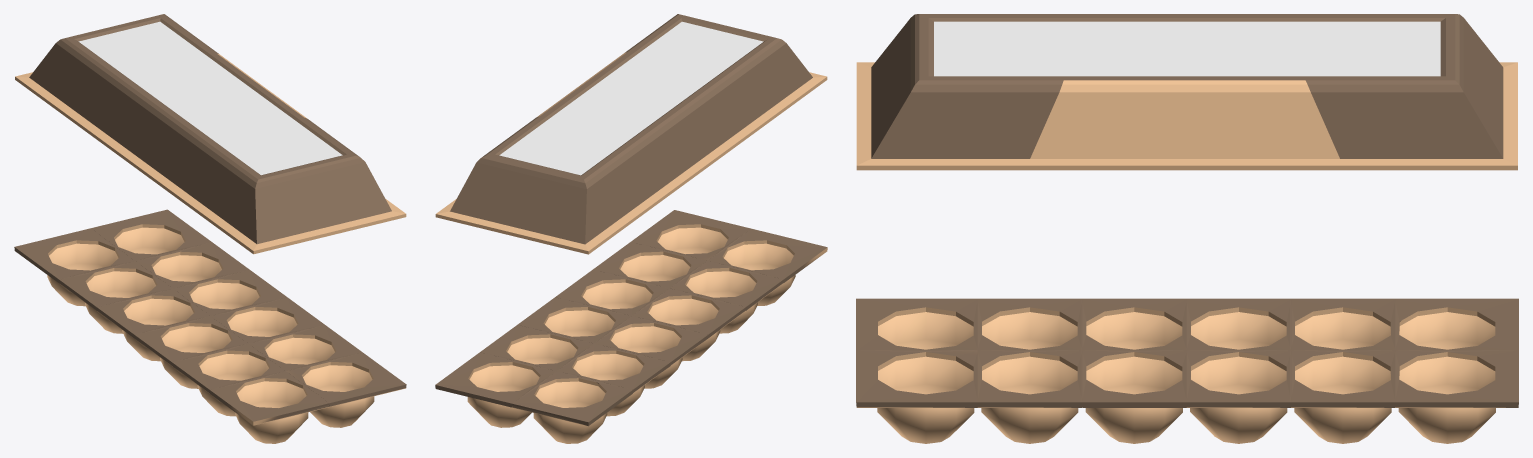
Rendered from eggContainer.fbx.
3 views of the same model, side by side, from view 1: azimuth 30°, elevation 25°; view 2: azimuth 150°, elevation 25°; view 3: azimuth 270°, elevation 25° (orthographic). The views are drawn at different scales.
Parts seen in each view (by area): view 1: Cube, Plane.001, Plane; view 2: Cube, Plane.001, Plane; view 3: Cube, Plane.001, Plane.
Boxes of the visible parts, x1,y1,x2,y2 form: Cube: (15, 14, 406, 254); Plane.001: (47, 227, 374, 443); Plane: (14, 209, 406, 425); Cube: (435, 14, 827, 254); Plane.001: (467, 227, 795, 443); Plane: (435, 210, 827, 426); Cube: (856, 14, 1517, 170); Plane.001: (877, 312, 1495, 443); Plane: (856, 298, 1518, 407).
Size of the model in its own units: 679 by 1111 by 1834.
